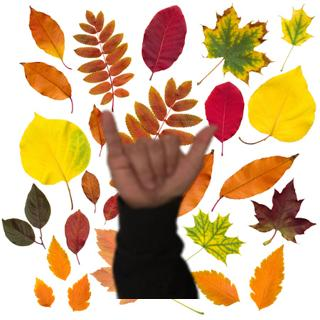HAVE: (94, 107, 221, 209)
